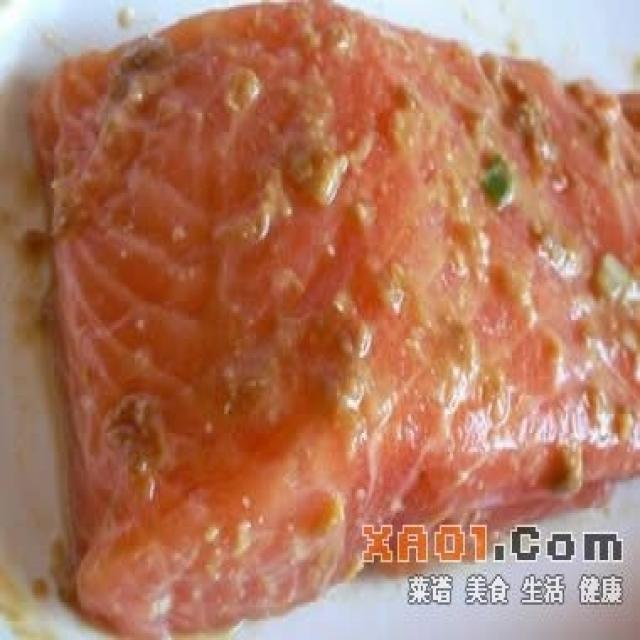熟制海鲜: (13, 4, 625, 630)
